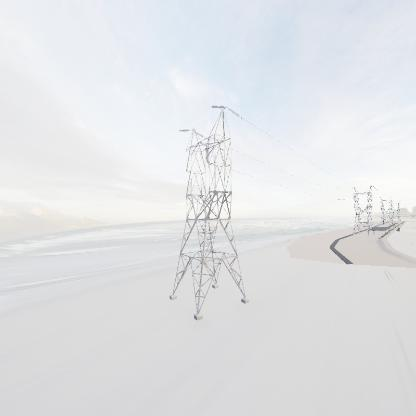tower: (167, 99, 253, 319), (348, 183, 377, 238)
